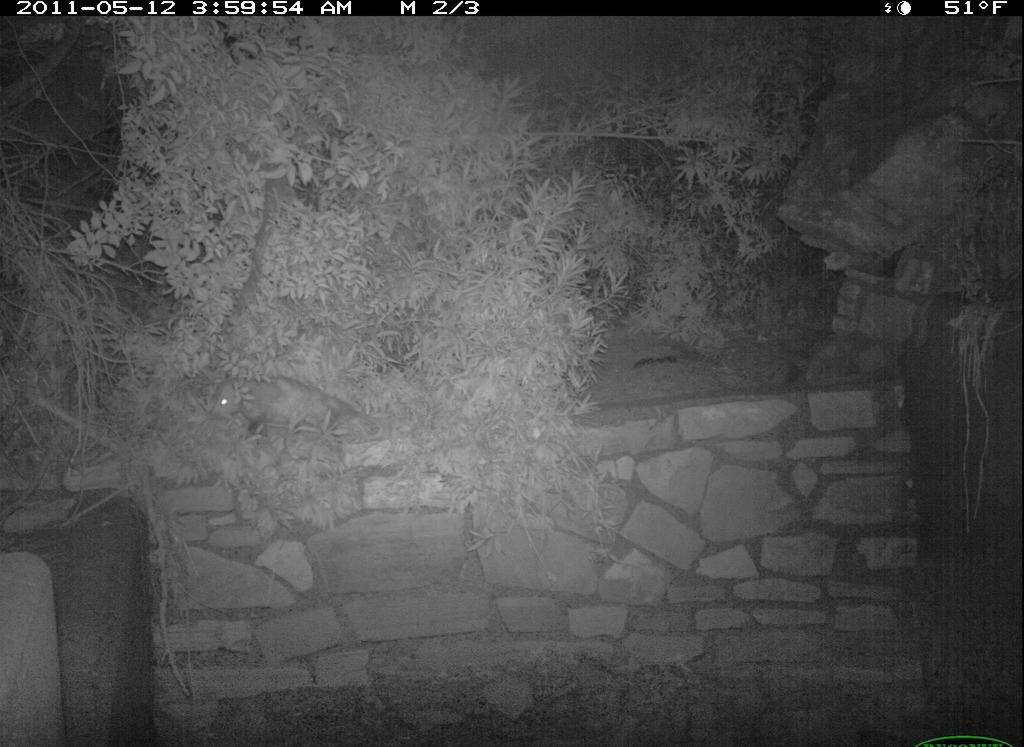opossum: (207, 373, 388, 455)
